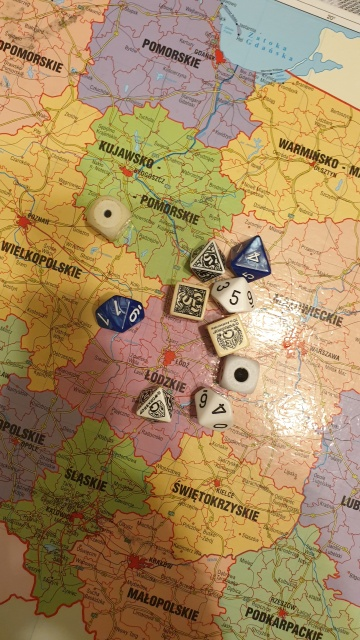d10-1: (90, 292, 150, 335)
d10-4: (190, 381, 235, 435), (238, 237, 266, 271)
d10-5: (212, 273, 257, 313)
d6-1: (87, 195, 127, 235), (218, 356, 259, 392)
d6p-5: (167, 279, 210, 322)
d6p-6: (207, 317, 252, 356)
d8p-5: (186, 236, 227, 281)
d8p-8: (129, 381, 177, 430)
